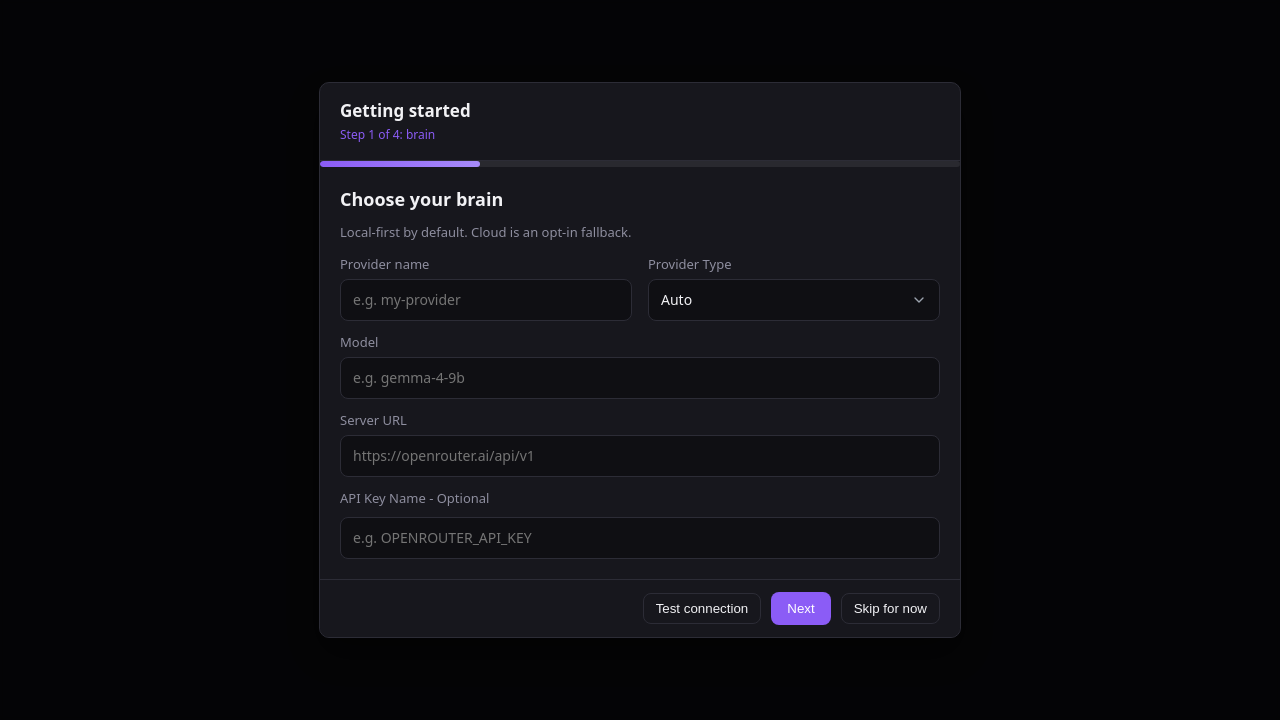
Scenario: GettingStartedWizard inline single source › shows brain validation inline with role alert and focus and no footer
This screenshot has width=1280, height=720.
Click the button with test id "brain-next".
click(801, 608)  # box [771, 592, 831, 625]
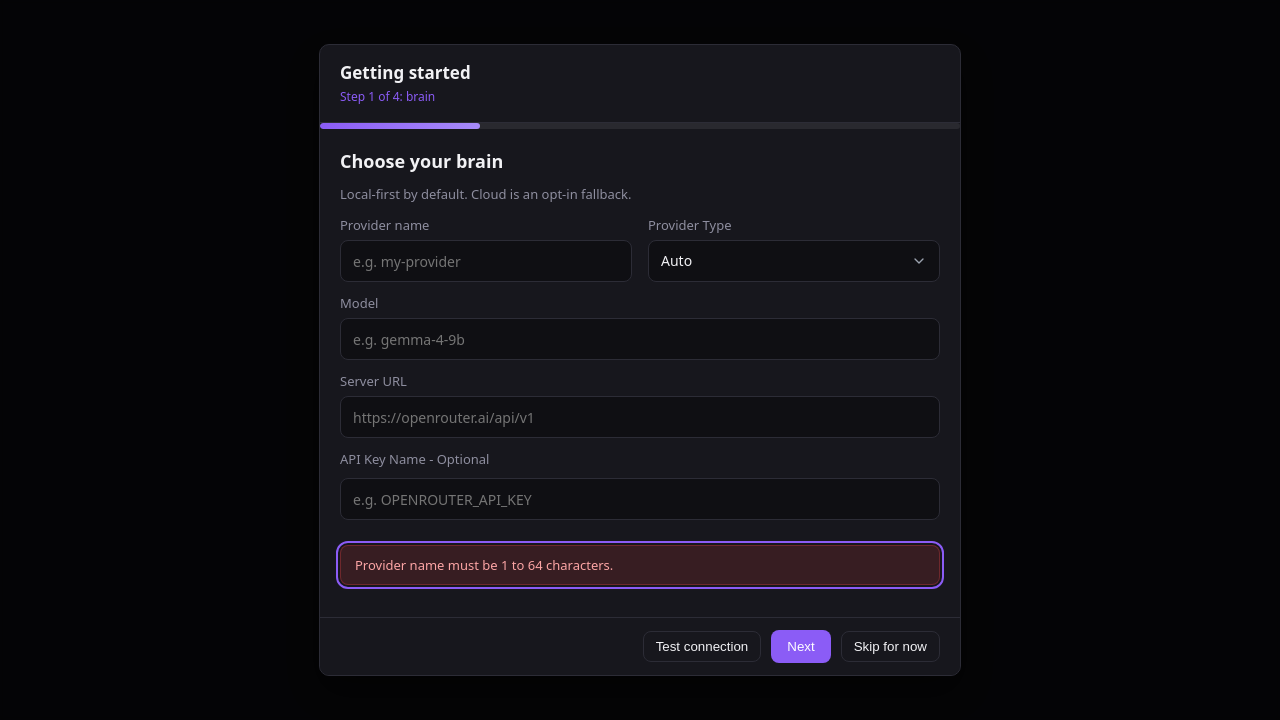
Result: the message with test id "brain-error" shows "1 to 64" at [355, 556, 613, 574]
